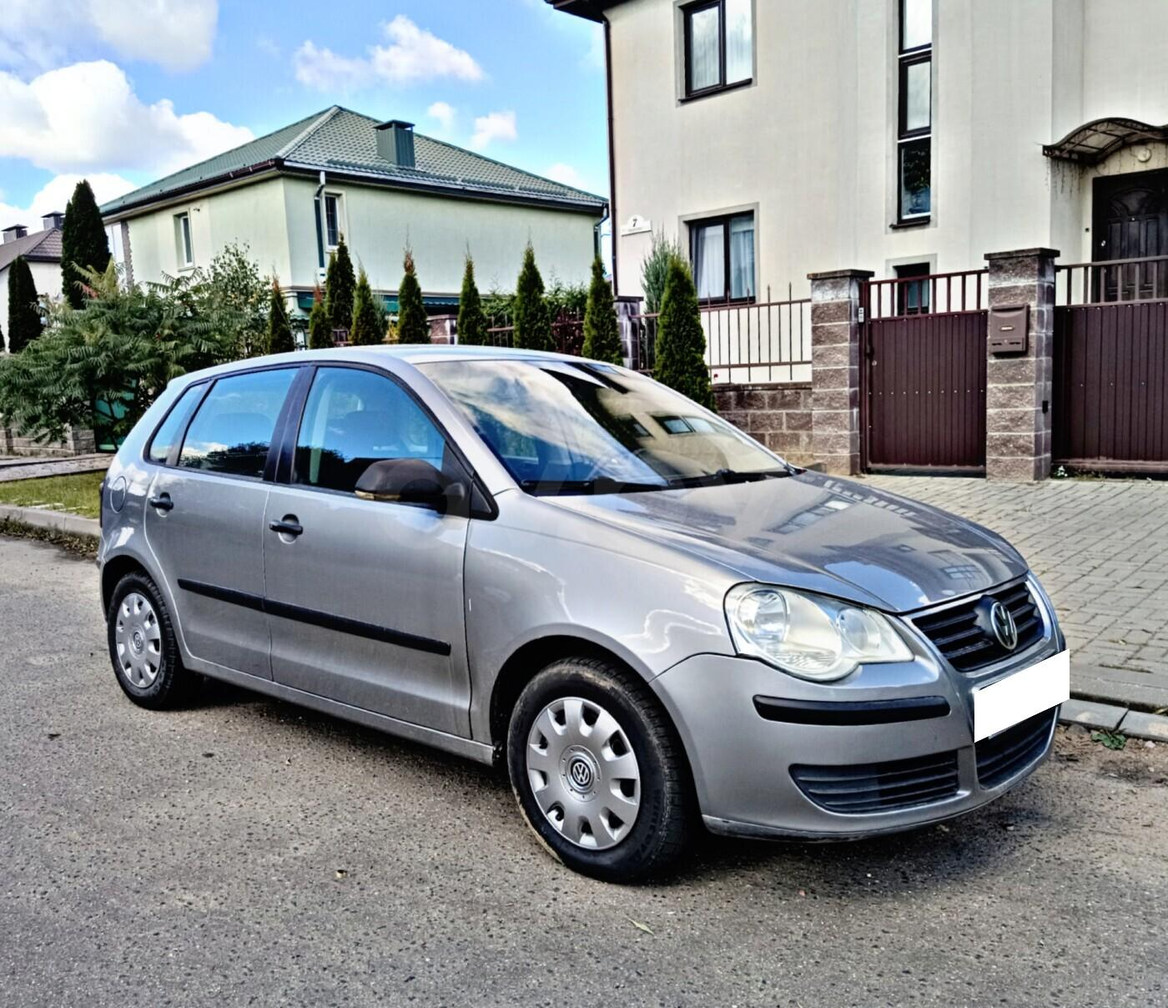Polo_2005-2009: (98, 337, 1076, 883)
